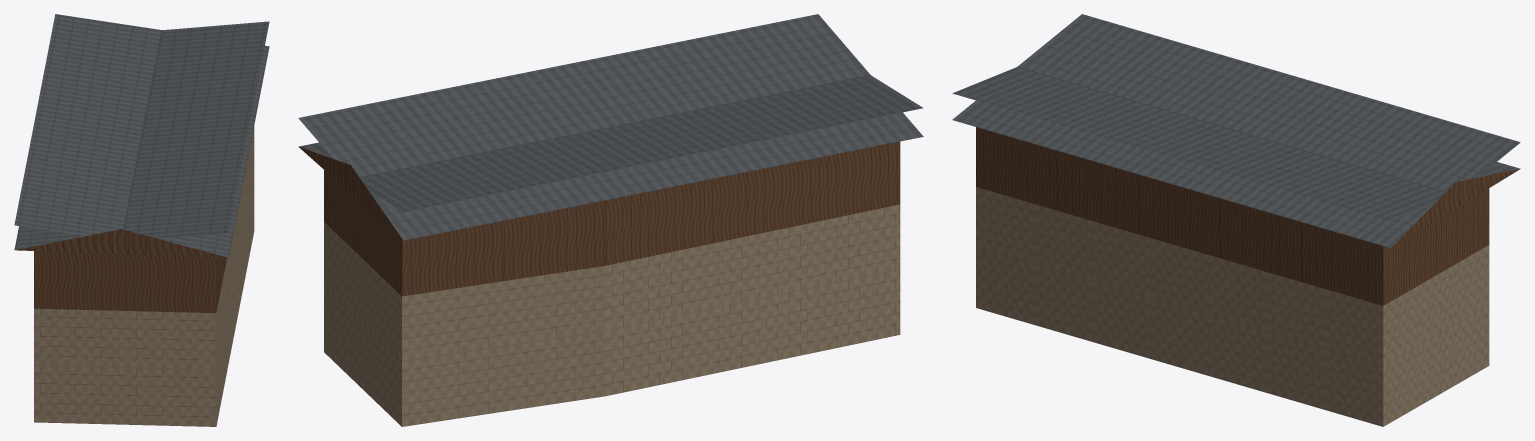
File: bld_c19_40_378.gltf
The picture shows the model from 3 angles, left to right: view 1: azimuth 30°, elevation 25°; view 2: azimuth 150°, elevation 25°; view 3: azimuth 270°, elevation 25°; orthographic projection. The views are drawn at different scales.
Parts seen in each view (by area): view 1: bld_c19_40_378; view 2: bld_c19_40_378; view 3: bld_c19_40_378.
Part boxes in pixels (box(x1,y1,x2,y2)): bld_c19_40_378: box(14, 14, 269, 426); bld_c19_40_378: box(298, 14, 923, 426); bld_c19_40_378: box(952, 14, 1520, 426).
Bounding box in the file's own units: 16.79 × 8.1 × 19.43.
Materials: 4 (4 with a texture image).
